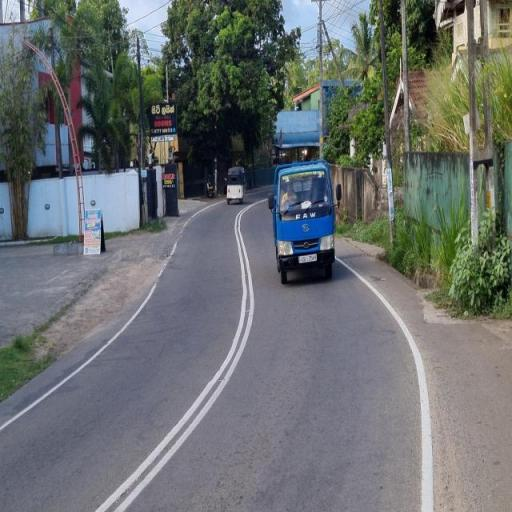double_white_line: (96, 197, 255, 512)
